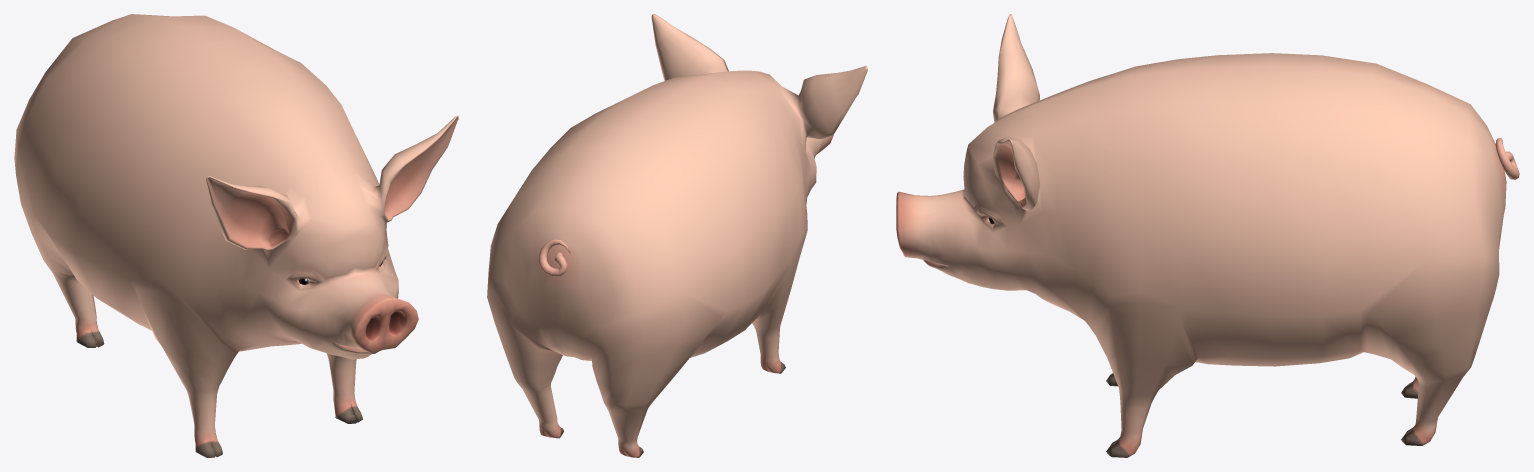
Rendered from Pig.fbx.
3 renders of one model, left to right at view 1: azimuth 30°, elevation 25°; view 2: azimuth 150°, elevation 25°; view 3: azimuth 270°, elevation 25°, orthographic. The views are drawn at different scales.
Parts seen in each view (by area): view 1: Body; view 2: Body, Tail; view 3: Body.
Part boxes in pixels (x1,y1,x2,y2): Body: (14,14,458,457); Body: (487,14,867,457); Tail: (538,239,570,276); Body: (896,14,1506,457).
Size of the model in its own units: 1.07 by 1.29 by 2.07.
